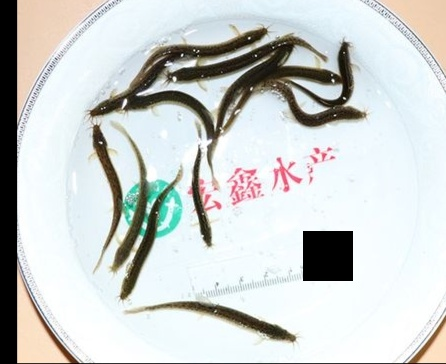fry: (182, 290, 306, 360), (117, 191, 182, 300), (107, 156, 149, 275), (81, 123, 127, 230), (127, 87, 215, 135), (183, 162, 223, 256), (288, 92, 366, 135), (175, 23, 272, 55), (80, 69, 133, 123), (242, 44, 296, 88), (329, 32, 360, 99), (281, 60, 343, 90), (169, 61, 241, 84)
